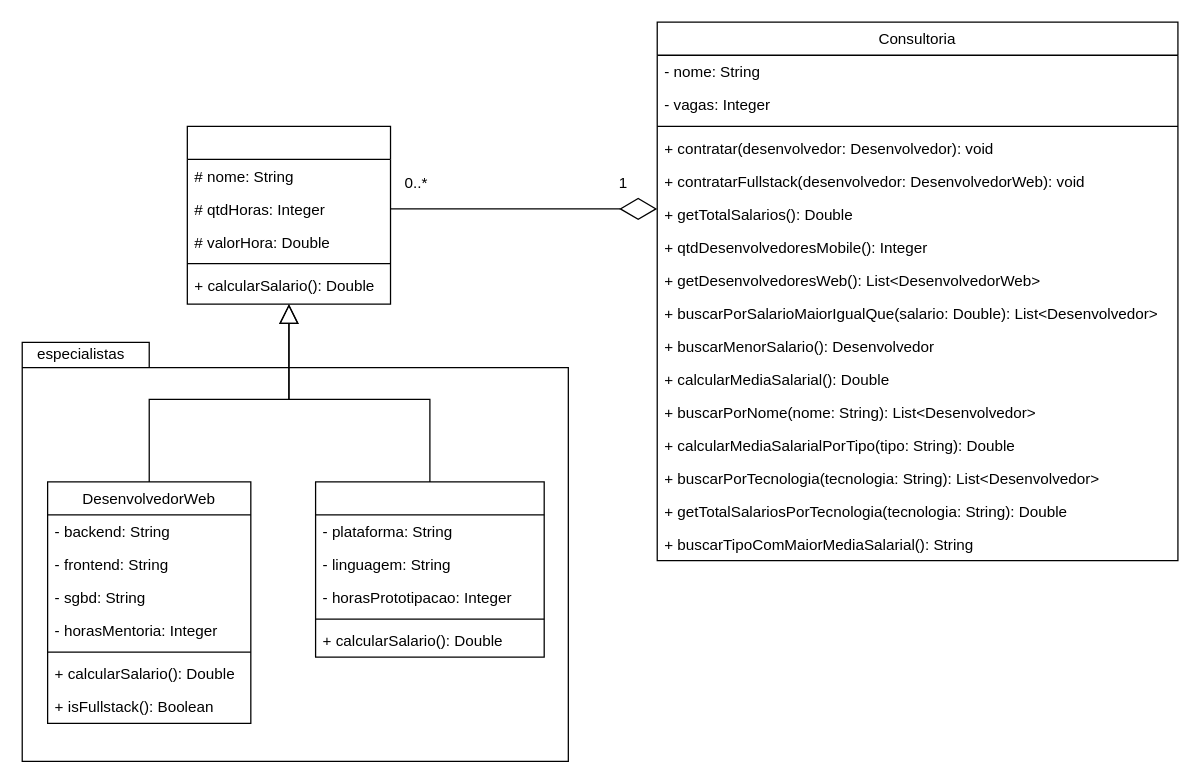
Image size: 1200x784. Some labels were removed from this diagram. The box of each missing label's shape, as (x1, y1, x2, y2) in pixels:
Desenvolvedor: (186, 125, 391, 304)
DesenvolvedorMobile: (314, 481, 544, 657)
